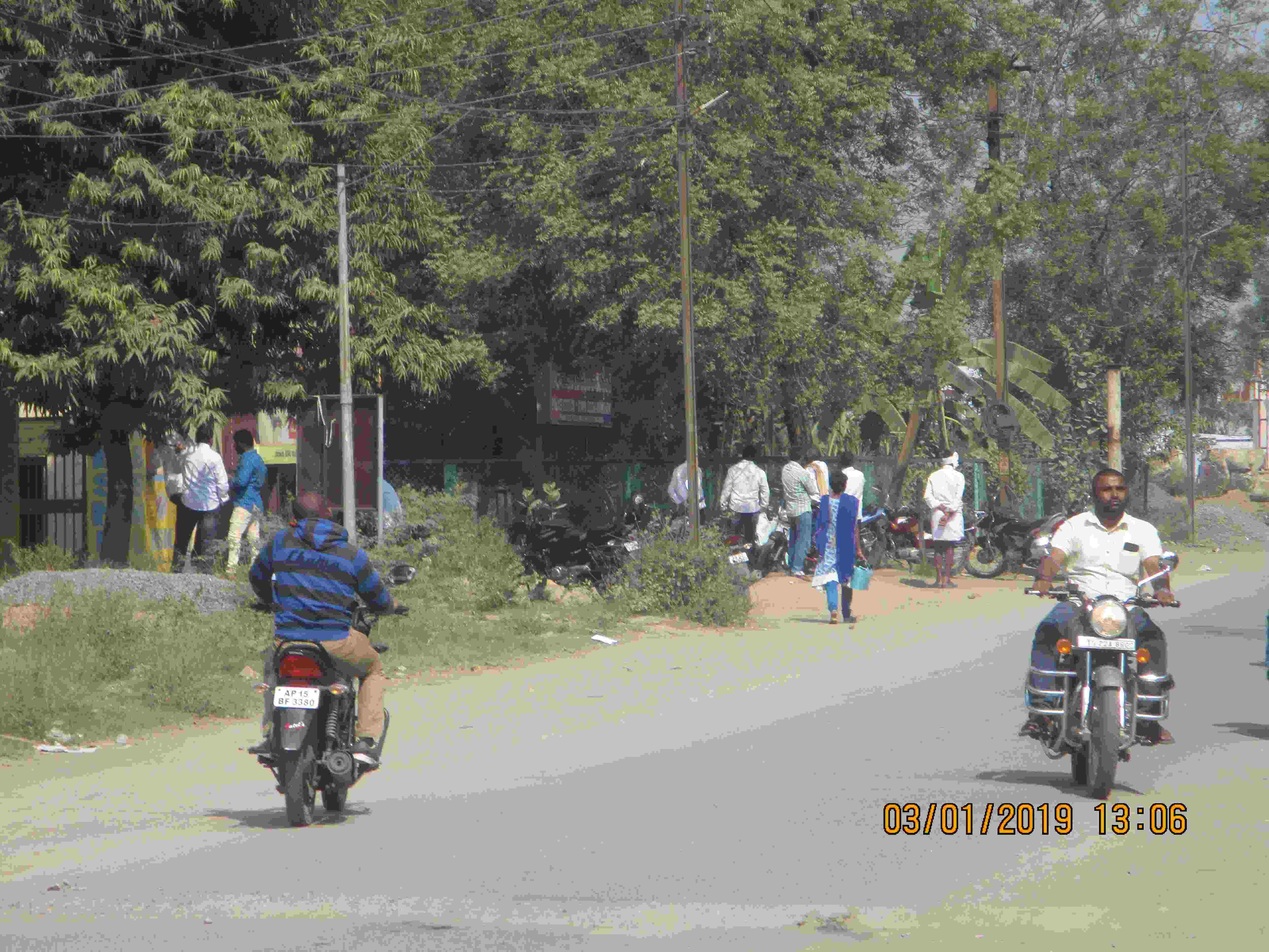plate: (268, 674, 328, 719)
